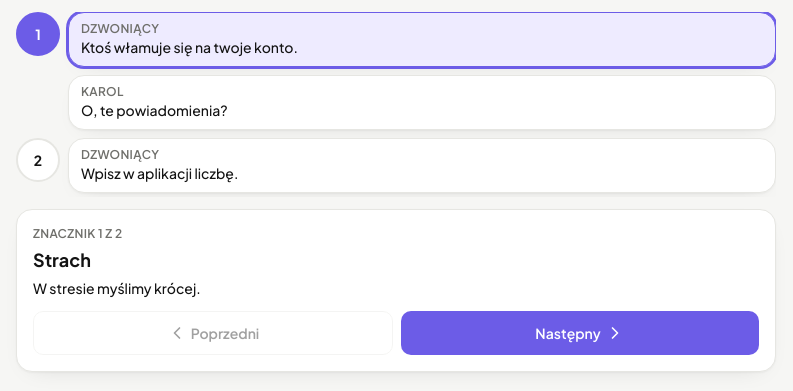
Test: AnnotatedReplayBlock › strzałki ← → między znacznikami i klik w numer znacznika
Step 1. Press ArrowRight in the element with test id "annotated-replay"
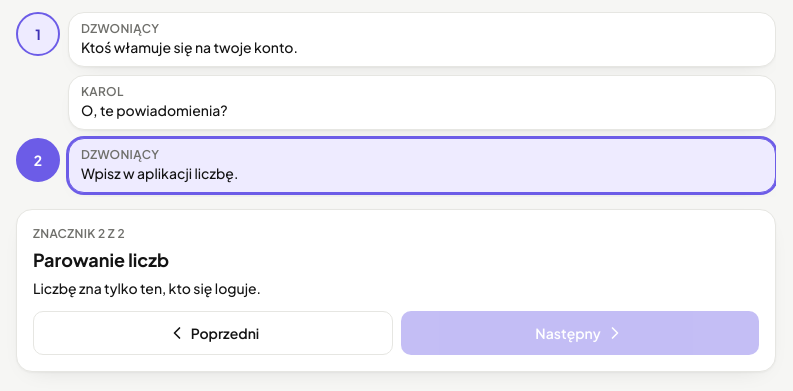
Result: the element with test id "replay-card" shows "Znacznik 2 z 2" at [16,209,776,372]
Step 2. Press ArrowLeft in the element with test id "annotated-replay"
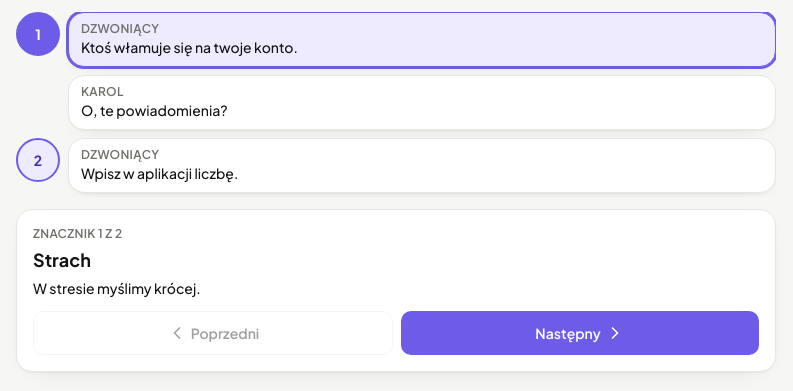
Result: the element with test id "replay-card" shows "Znacznik 1 z 2" at [16,209,776,372]
Step 3. Click the button with test id "replay-marker-2" → (38, 160), box [16,138,60,182]
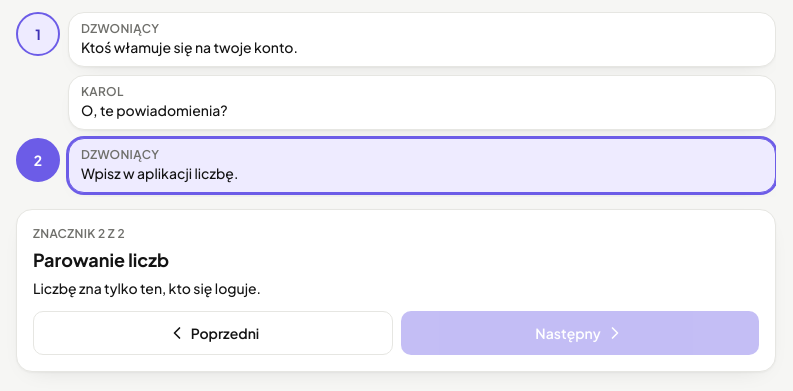
Result: the element with test id "replay-card" shows "Znacznik 2 z 2" at [16,209,776,372]
